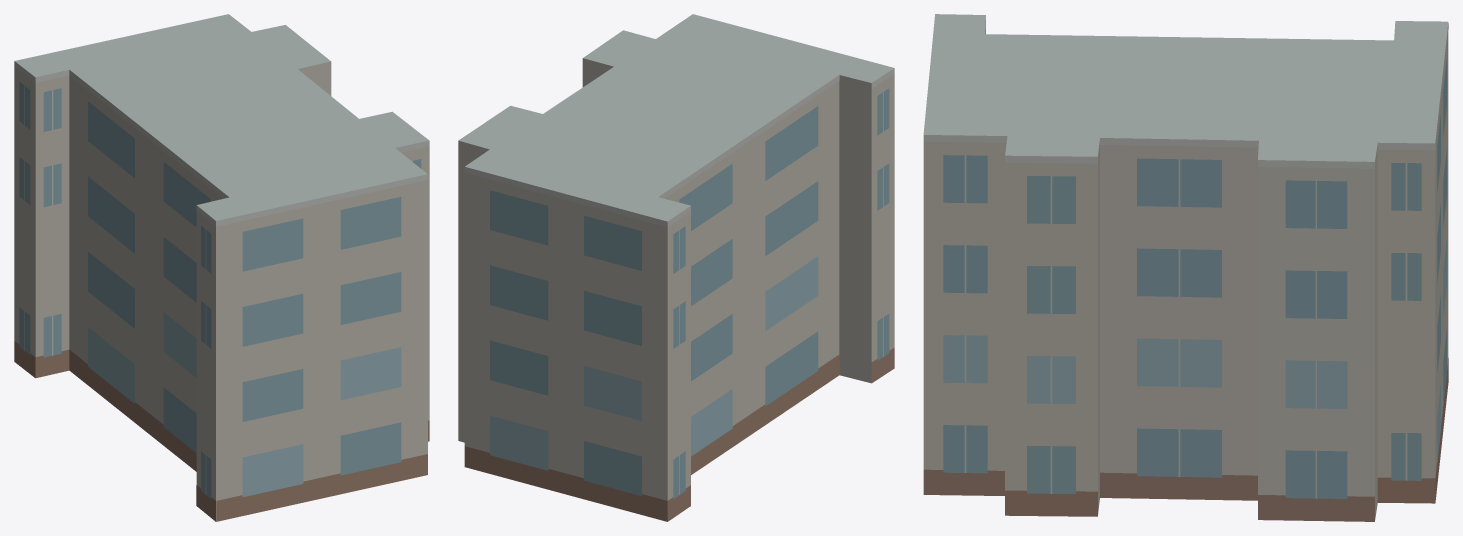
Rendered from survey-upis-33036765.glb.
3 views of the same model, side by side, from view 1: azimuth 30°, elevation 25°; view 2: azimuth 150°, elevation 25°; view 3: azimuth 270°, elevation 25° (orthographic). The views are drawn at different scales.
Parts seen in each view (by area): view 1: survey-upis-33036765.tmp; view 2: survey-upis-33036765.tmp; view 3: survey-upis-33036765.tmp.
Part boxes in pixels (<box>): survey-upis-33036765.tmp: <box>14,14,429,521</box>; survey-upis-33036765.tmp: <box>458,14,894,521</box>; survey-upis-33036765.tmp: <box>923,14,1448,521</box>.
Size of the model in its own units: 11.38 by 12.9 by 17.06.
